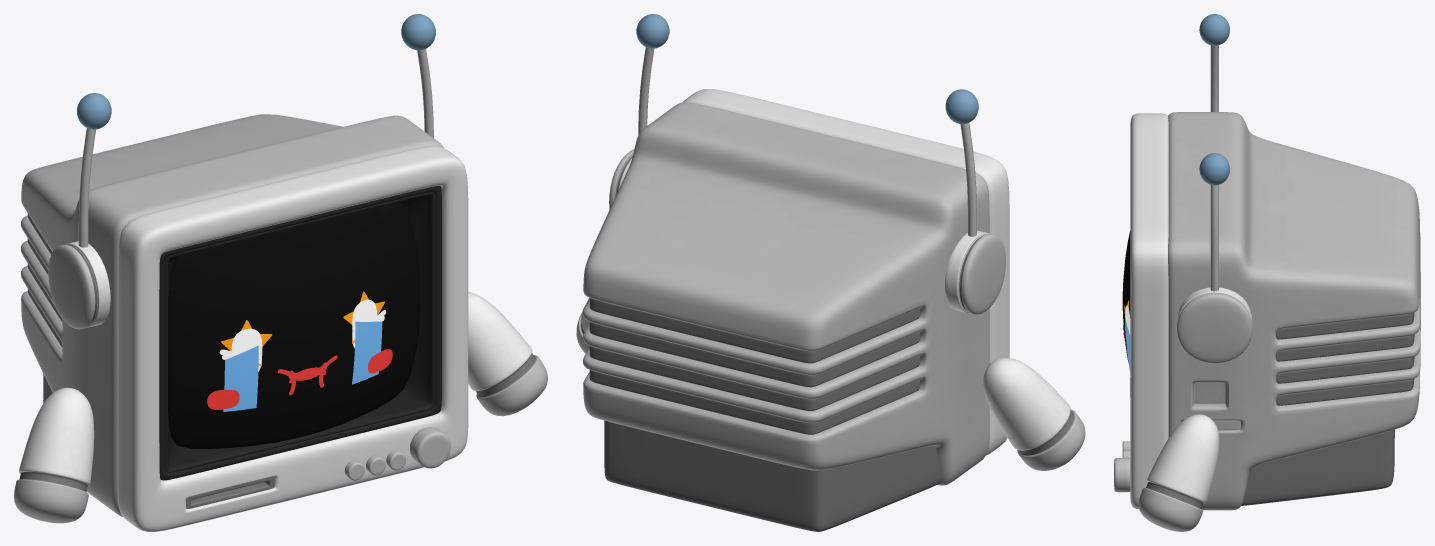
Rendered from robot-transformed-transformed.glb.
3 renders of one model, left to right at view 1: azimuth 30°, elevation 25°; view 2: azimuth 150°, elevation 25°; view 3: azimuth 270°, elevation 25°, orthographic. The views are drawn at different scales.
Parts seen in each view (by area): view 1: Computer Head, Cube, Cry, Smile, Neutral; view 2: Computer Head, Cube; view 3: Computer Head, Cube.
Part boxes in pixels (bbox=[...]): Computer Head: bbox=[21, 114, 468, 531]; Cube: bbox=[14, 14, 547, 523]; Cry: bbox=[207, 315, 392, 411]; Smile: bbox=[213, 301, 384, 409]; Neutral: bbox=[213, 299, 387, 392]; Computer Head: bbox=[583, 89, 1009, 531]; Cube: bbox=[576, 14, 1085, 470]; Computer Head: bbox=[1114, 112, 1420, 510]; Cube: bbox=[1138, 14, 1252, 531].
Size of the model in its own units: 5.67 by 4.24 by 3.27.
Materials: 3 (3 with a texture image).
